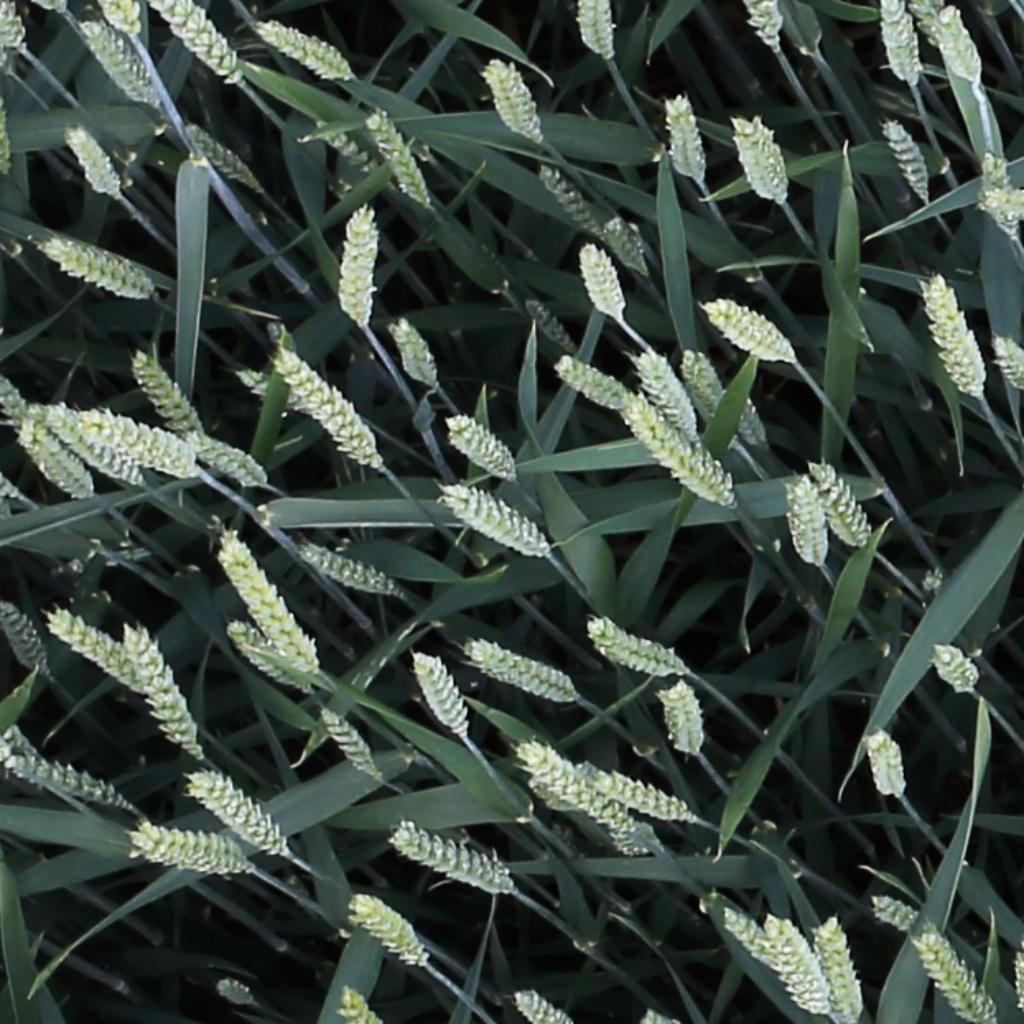0-0: (212, 532, 322, 669), (268, 342, 380, 469), (622, 398, 733, 510), (117, 621, 206, 760), (514, 740, 634, 838), (389, 820, 514, 898), (437, 480, 553, 563), (30, 402, 143, 486), (582, 770, 690, 857), (184, 771, 287, 856), (920, 271, 988, 399), (360, 102, 434, 210), (464, 635, 578, 705), (46, 611, 143, 692), (81, 410, 194, 478), (75, 21, 161, 110), (152, 0, 240, 86), (12, 410, 94, 502), (0, 755, 131, 812), (914, 931, 993, 1024), (125, 344, 202, 439), (765, 912, 830, 1019), (130, 820, 252, 876), (348, 895, 434, 971), (255, 20, 357, 84), (586, 614, 692, 675), (804, 454, 871, 550), (703, 297, 796, 366), (43, 238, 151, 297), (634, 346, 700, 441), (406, 648, 471, 742), (532, 157, 603, 240), (481, 58, 545, 147), (311, 703, 380, 785), (731, 111, 790, 204), (181, 120, 258, 189), (60, 117, 122, 202), (297, 544, 394, 598), (181, 431, 269, 490), (225, 623, 303, 689), (339, 205, 380, 329), (442, 413, 516, 481), (879, 111, 933, 203), (816, 913, 861, 1022), (784, 471, 831, 567), (385, 311, 441, 391), (574, 236, 625, 323), (716, 902, 775, 977), (866, 894, 946, 948), (0, 592, 50, 677), (551, 354, 628, 408), (935, 2, 984, 86), (974, 150, 1019, 240), (518, 292, 578, 357), (879, 1, 925, 85), (655, 677, 706, 752), (663, 90, 703, 182), (598, 210, 651, 279), (677, 345, 723, 417), (236, 368, 306, 413), (866, 729, 909, 801), (309, 120, 372, 169), (928, 641, 980, 699), (988, 329, 1024, 401), (905, 1, 953, 55), (576, 0, 615, 60), (733, 393, 771, 454), (510, 989, 574, 1024), (744, 0, 783, 54), (333, 978, 371, 1024), (99, 0, 139, 39), (0, 0, 29, 53), (991, 191, 1024, 223), (211, 980, 252, 1004), (924, 569, 950, 596)
